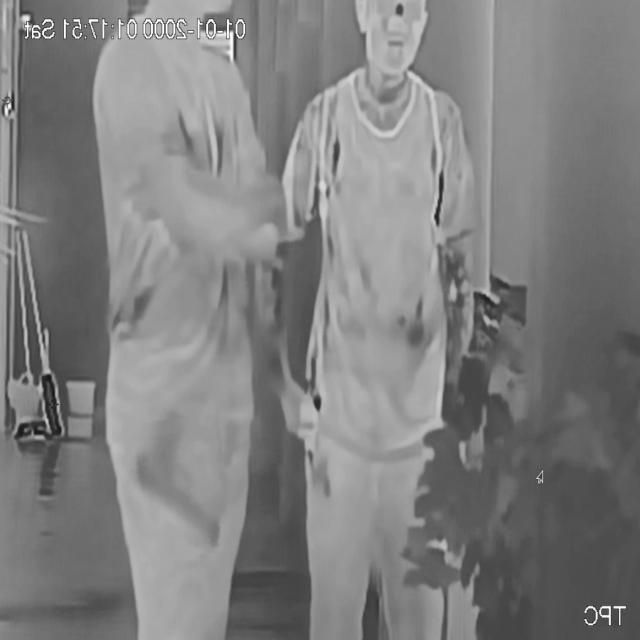Weapon: (126, 416, 231, 560)
